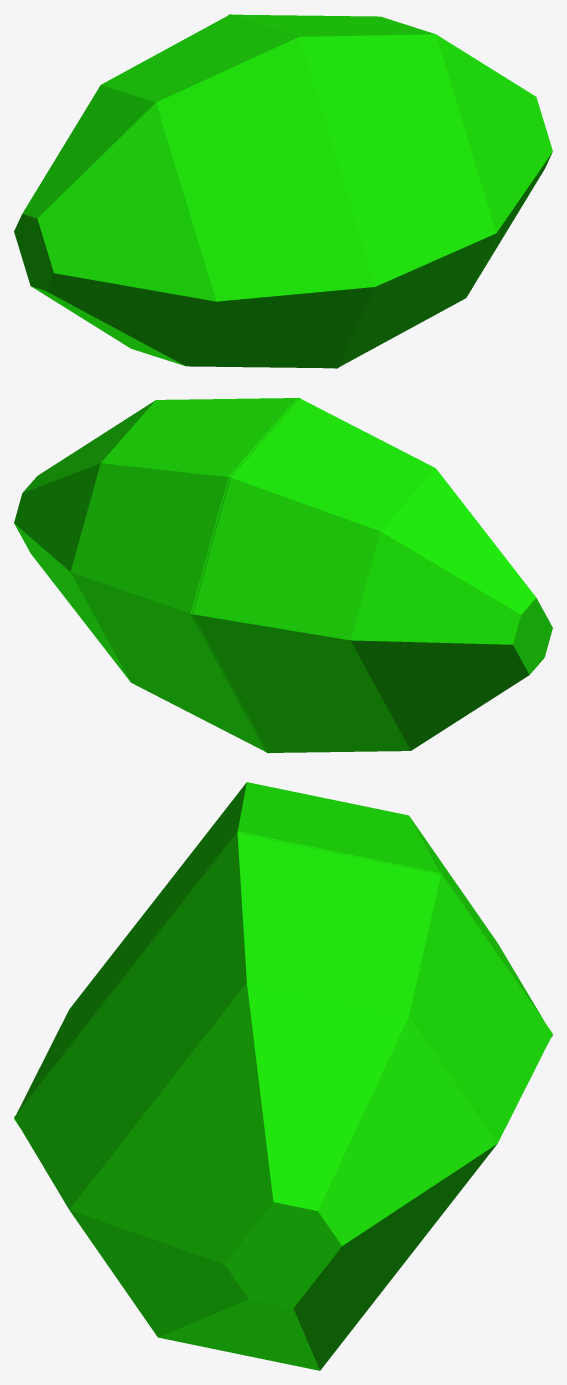
Rendered from item biji.fbx.
3 views of the same model, one above another, from view 1: azimuth 30°, elevation 25°; view 2: azimuth 150°, elevation 25°; view 3: azimuth 270°, elevation 25° (orthographic). The views are drawn at different scales.
Parts seen in each view (by area): view 1: biji item.004; view 2: biji item.004; view 3: biji item.004.
Part boxes in pixels (x1=…): biji item.004: x1=14, y1=14, x2=552, y2=368; biji item.004: x1=14, y1=397, x2=552, y2=753; biji item.004: x1=14, y1=782, x2=552, y2=1370.
Size of the model in its own units: 50.56 by 32.22 by 32.22.
